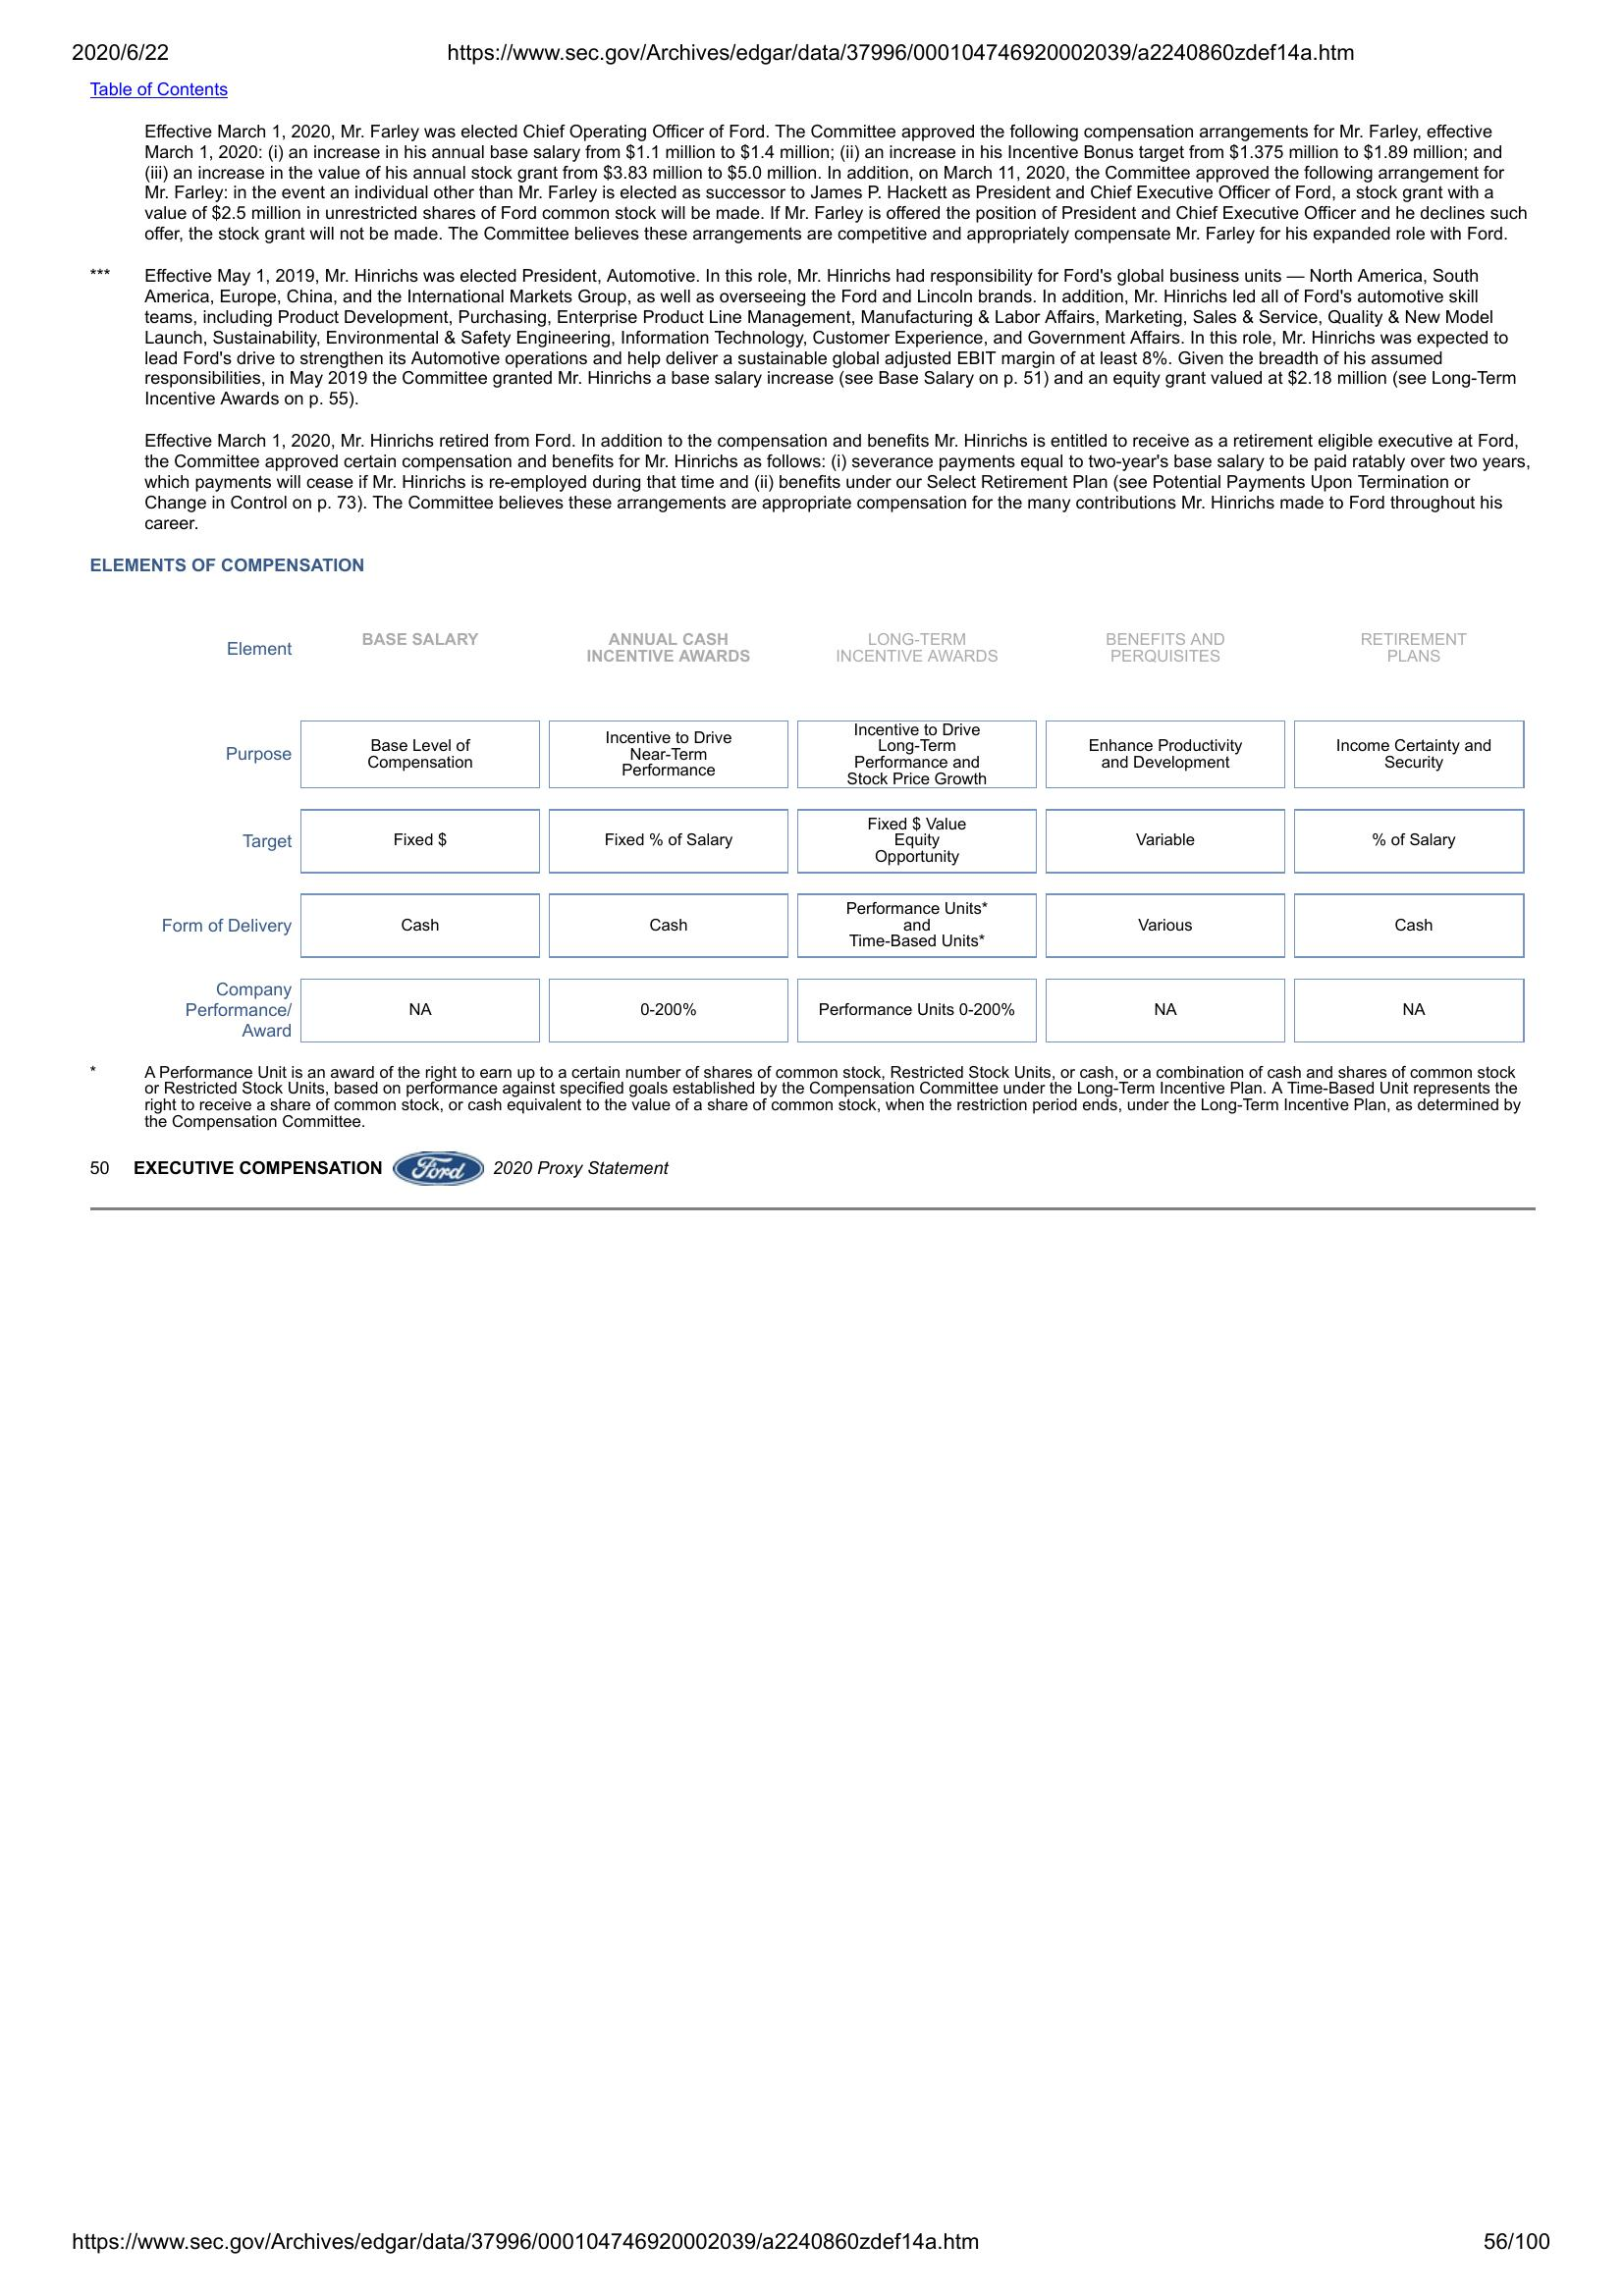table: (155, 614, 1533, 1050)
